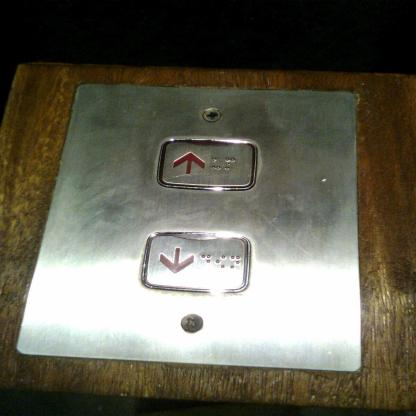down: (141, 231, 251, 292)
up: (152, 136, 260, 191)
